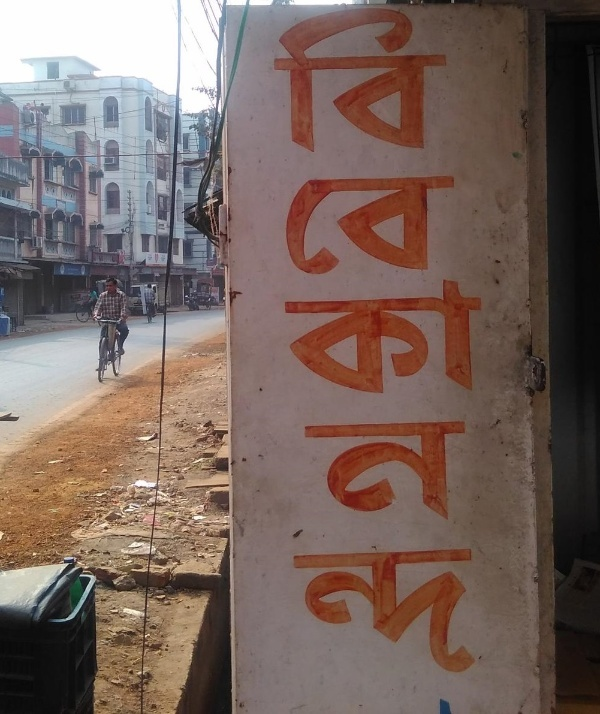text: (273, 4, 288, 691), (289, 4, 304, 691), (305, 4, 320, 691), (321, 4, 336, 691), (337, 4, 352, 691), (353, 4, 368, 691), (369, 4, 384, 691), (385, 4, 400, 691), (401, 4, 416, 691), (417, 4, 432, 691), (433, 4, 448, 691), (449, 4, 464, 691), (465, 4, 480, 691), (481, 4, 496, 691), (266, 4, 272, 691), (497, 4, 499, 691), (65, 267, 80, 279), (147, 254, 160, 264), (81, 267, 87, 279), (161, 254, 168, 264)
